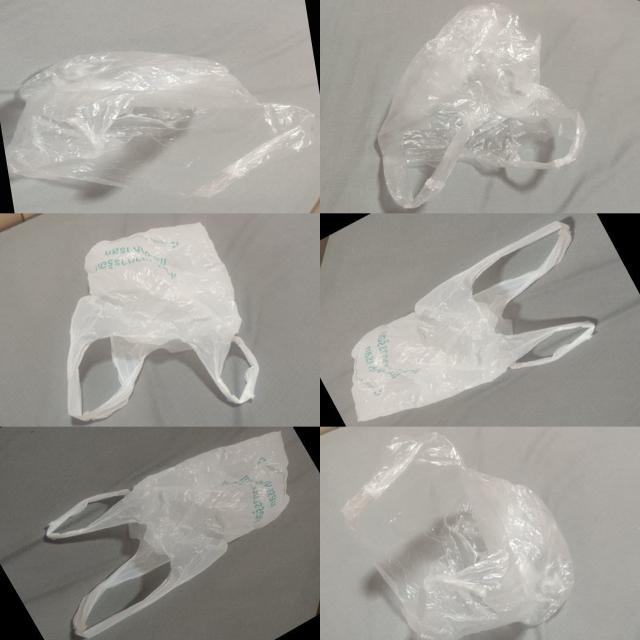Single-layer Plastic: (46, 431, 289, 638), (352, 221, 595, 421), (343, 432, 573, 640), (8, 51, 315, 197), (378, 4, 585, 209), (68, 222, 259, 421)
